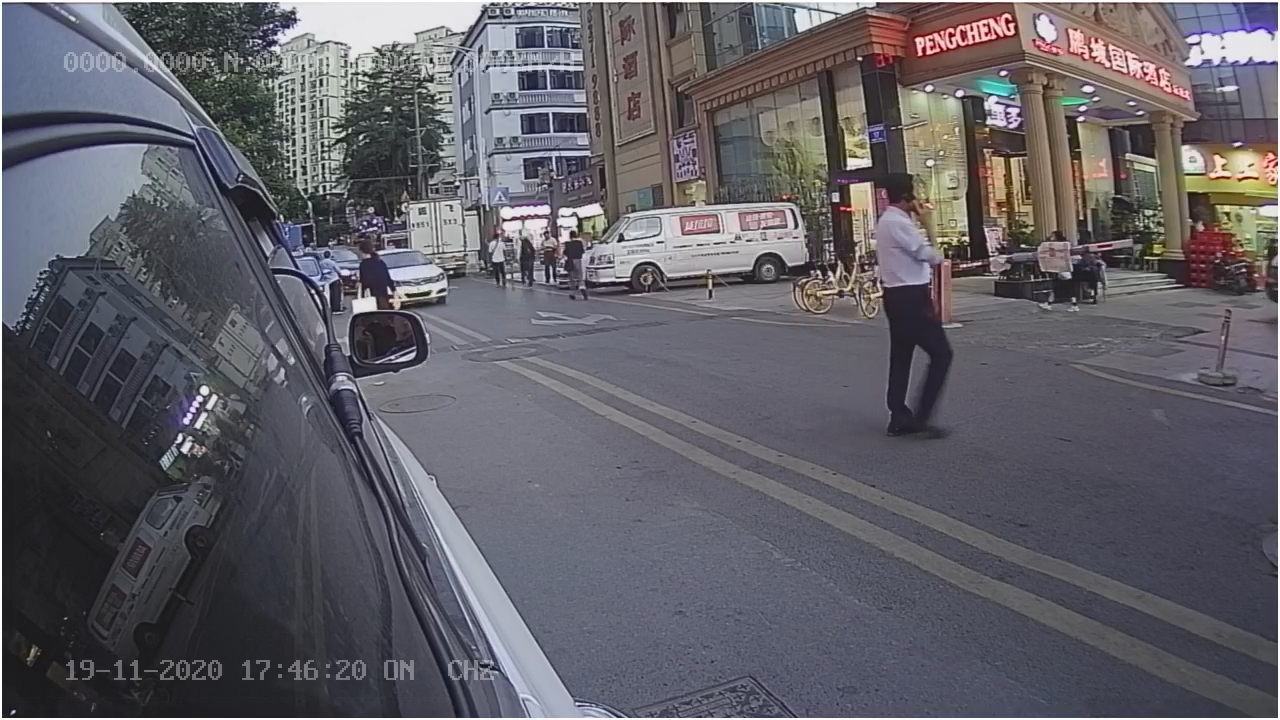person: (859, 178, 962, 447)
